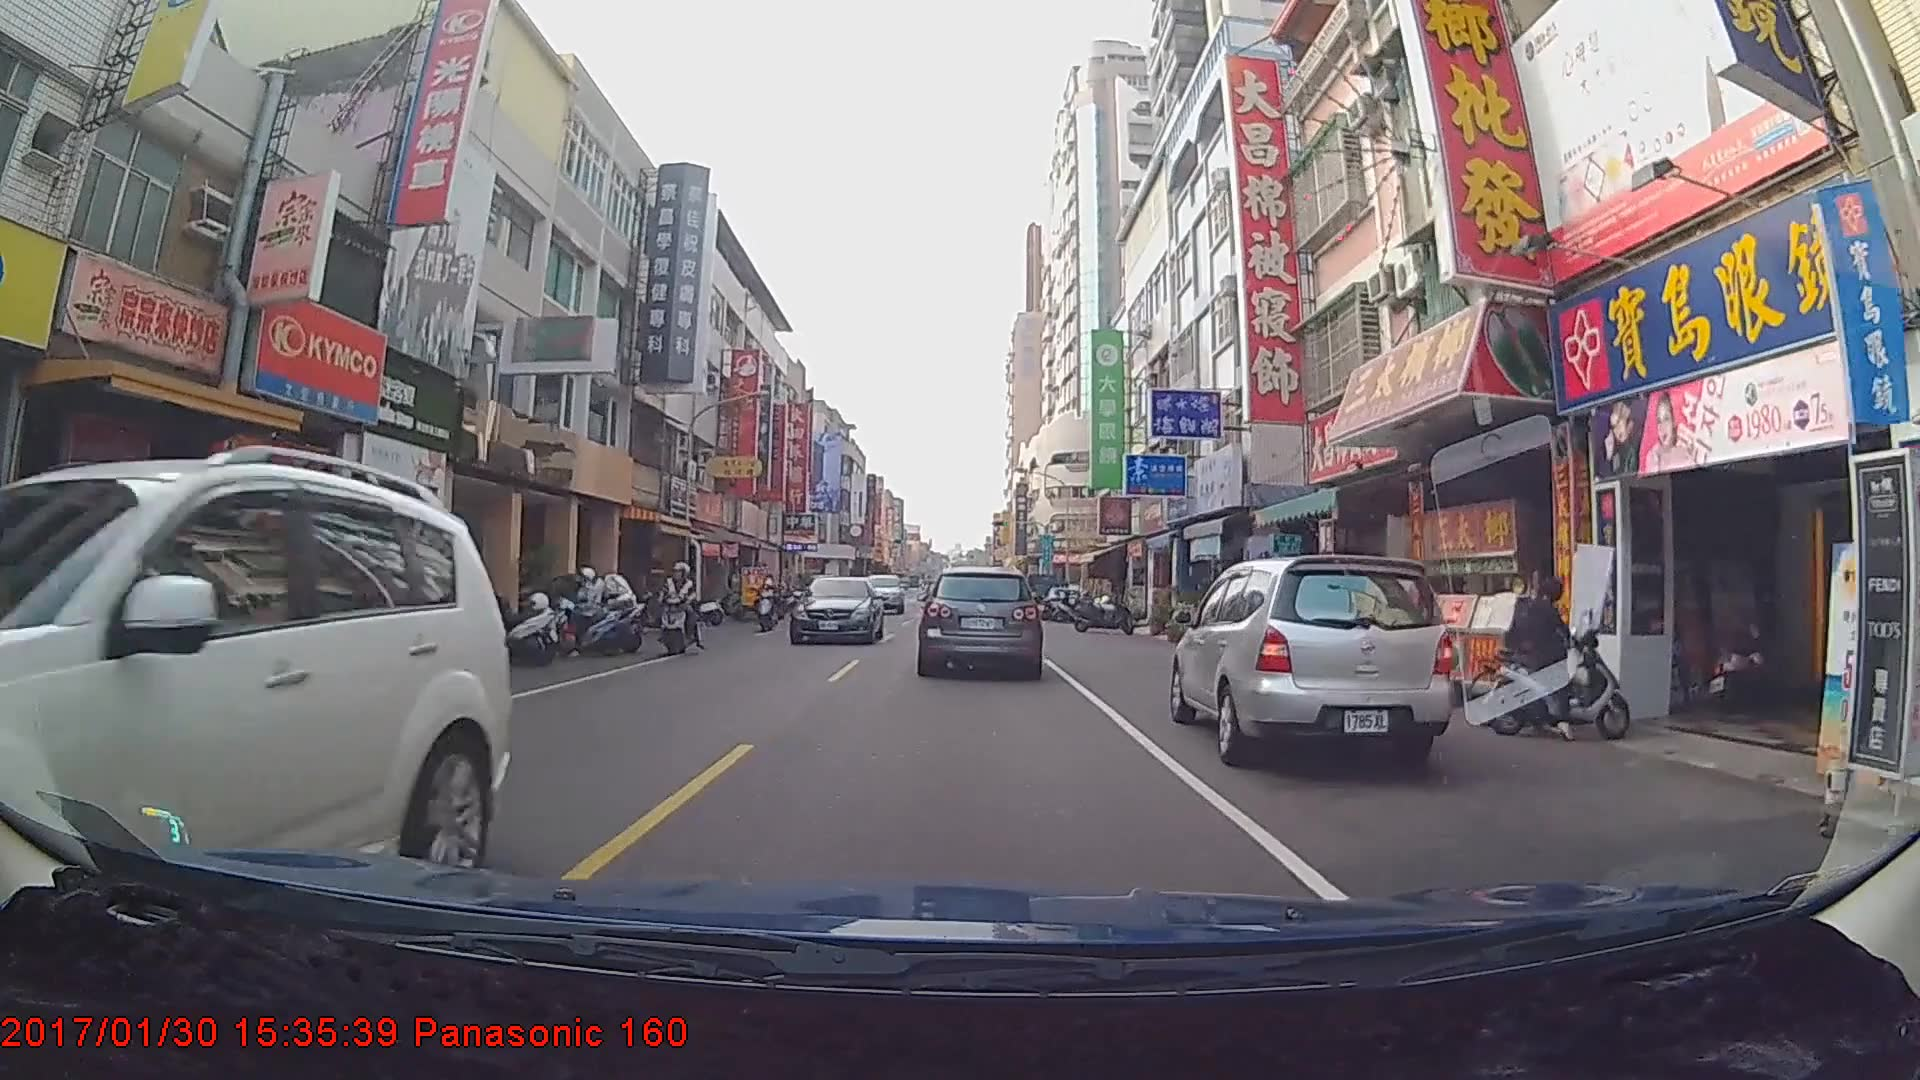rider: (1483, 573, 1641, 751), (649, 558, 713, 656), (753, 577, 782, 630)
vehicle: (0, 450, 512, 996), (1168, 556, 1449, 765), (919, 565, 1042, 675), (788, 576, 886, 645), (855, 572, 904, 613)
